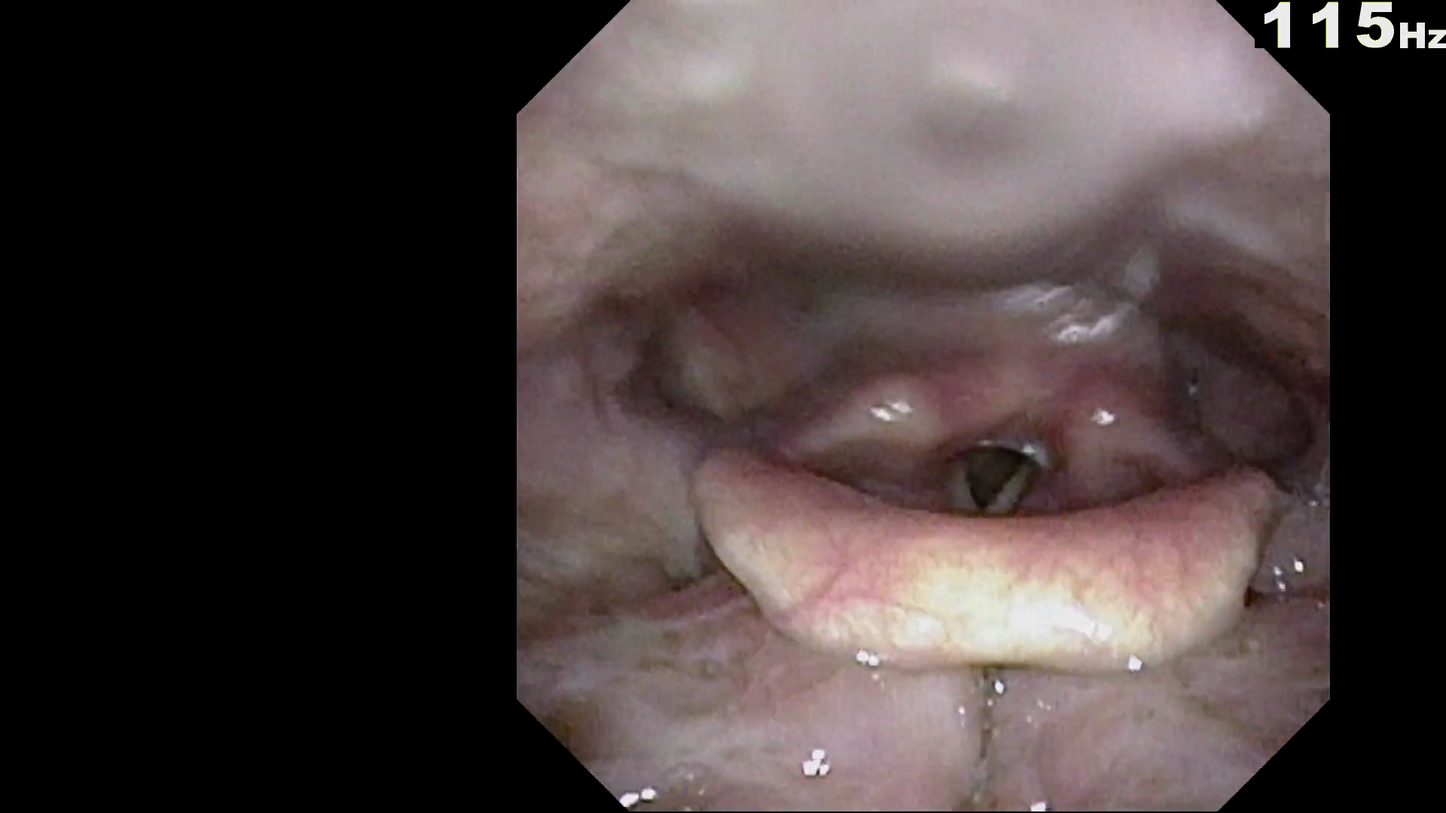epiglottis: (677, 455, 1314, 673)
trachea: (931, 426, 1061, 499)
